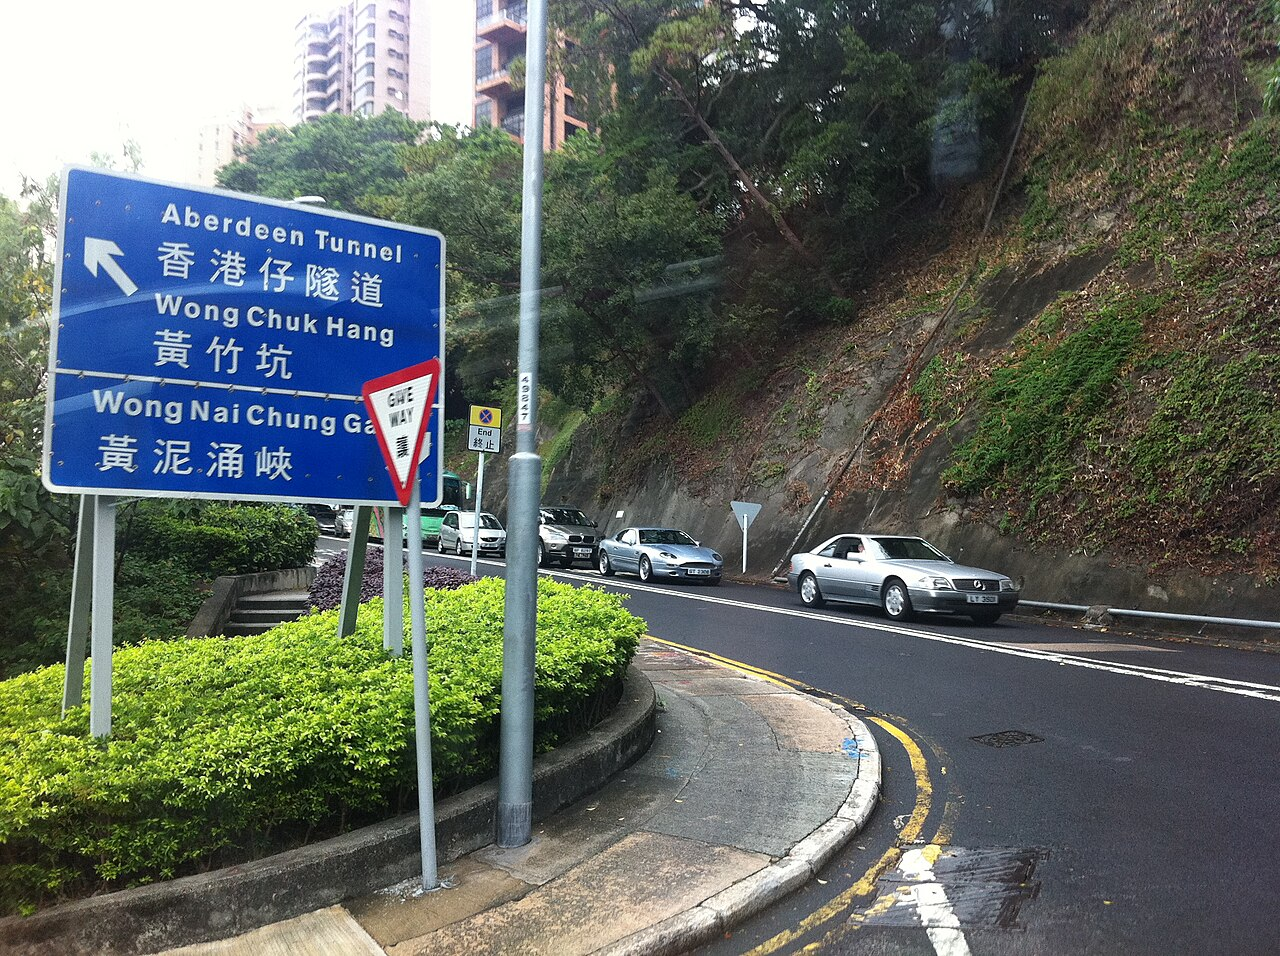End Of No Stopping: (464, 400, 506, 456)
Give Way: (360, 360, 438, 480)
